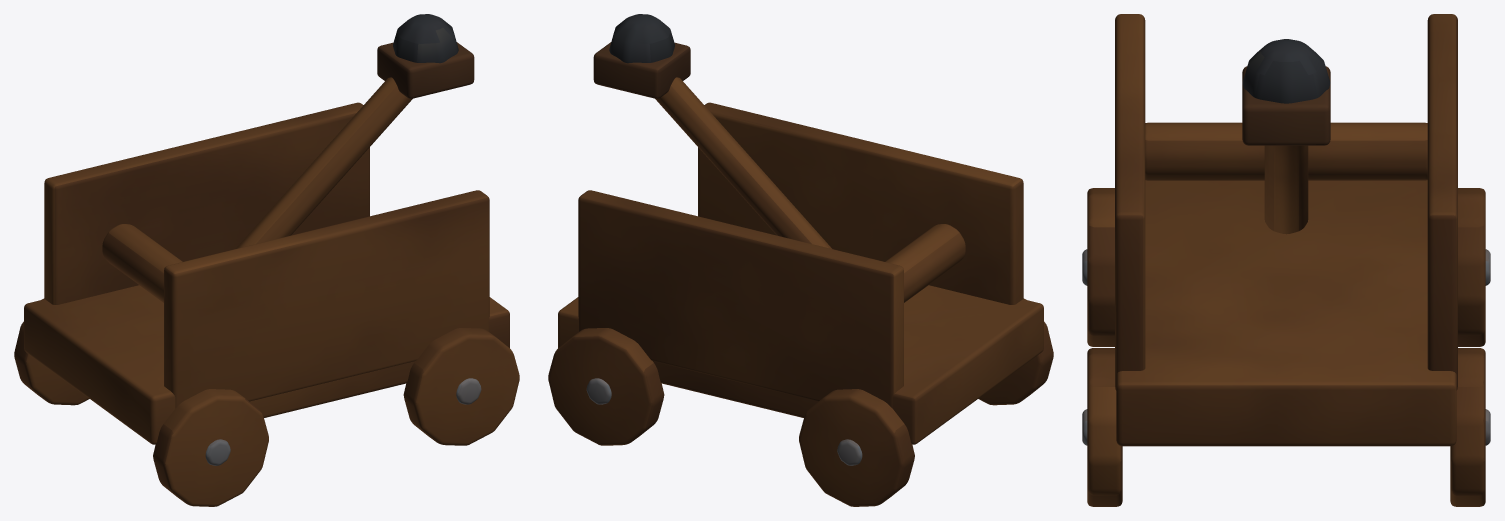
The model's file is unit_royal_onager.fbx.
The picture shows the model from 3 angles, left to right: view 1: azimuth 30°, elevation 25°; view 2: azimuth 150°, elevation 25°; view 3: azimuth 270°, elevation 25°; orthographic projection. The views are drawn at different scales.
Visible parts, largest first — view 1: unit_royal_onager; view 2: unit_royal_onager; view 3: unit_royal_onager.
Boxes of the visible parts, bbox=[...] form: unit_royal_onager: bbox=[14, 14, 519, 506]; unit_royal_onager: bbox=[548, 14, 1053, 506]; unit_royal_onager: bbox=[1082, 14, 1490, 506].
Bounding box in the file's own units: 2.23 × 2.1 × 1.62.
